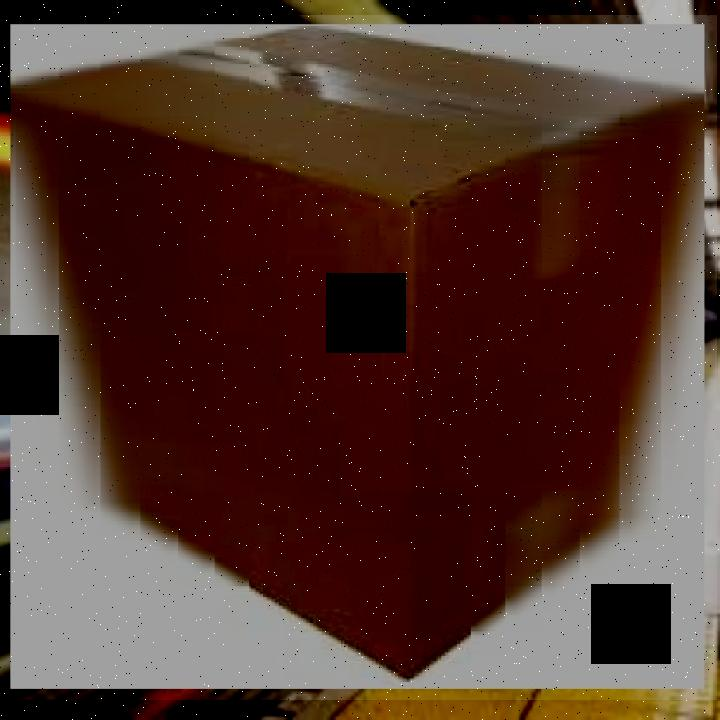box: (0, 15, 717, 700)
